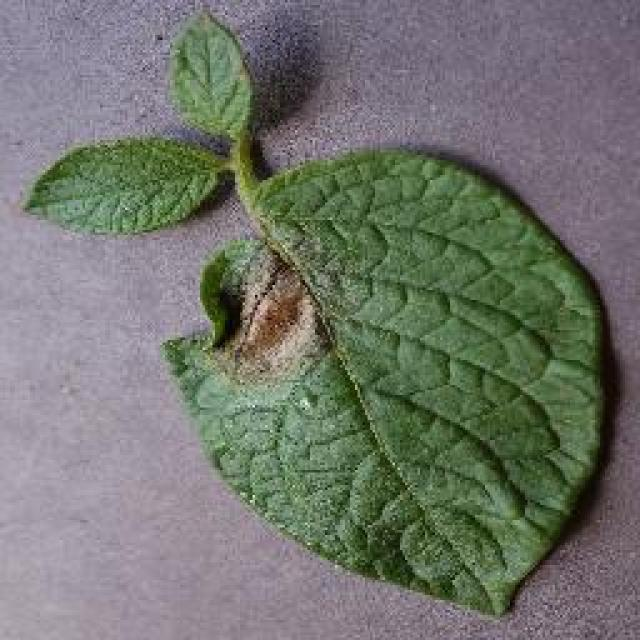Potato___Late_blight: (21, 5, 605, 619)
